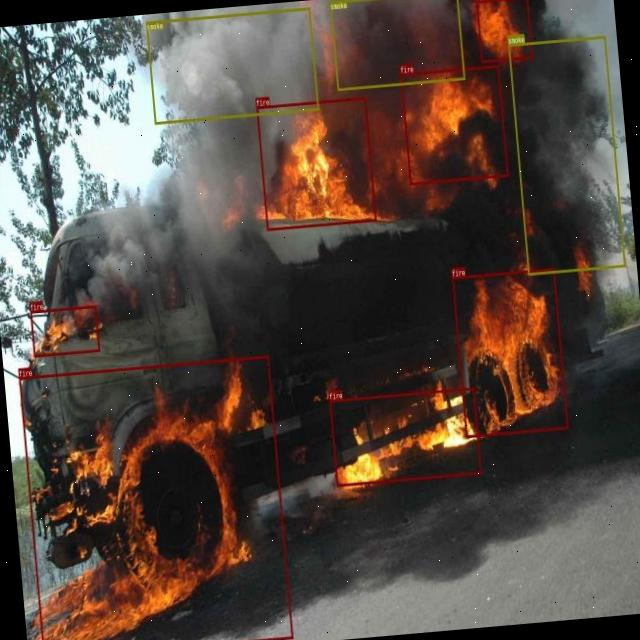fire: (17, 354, 292, 640), (452, 268, 568, 437), (256, 96, 376, 229), (329, 387, 481, 486), (400, 64, 508, 184), (30, 304, 100, 356), (476, 0, 533, 62)
smoke: (508, 35, 624, 275), (146, 7, 318, 124), (329, 0, 464, 89)
